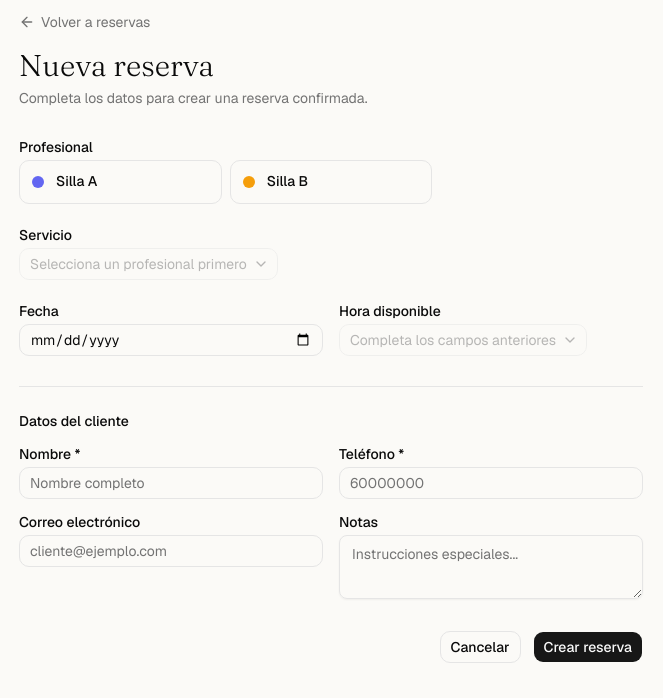
Scenario: NewBookingForm — validación › muestra error cuando el teléfono no inicia con 6
Type "71234567" into the field labelled "Teléfono *".
click(491, 482); type("71234567")  # box [339,466,643,498]
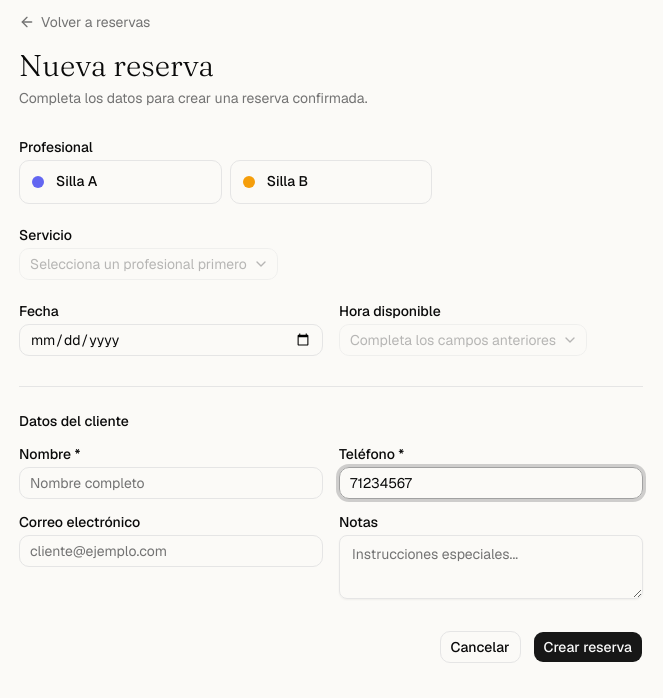
Click the button "Crear reserva".
click(588, 646)  # box [532,630,643,662]
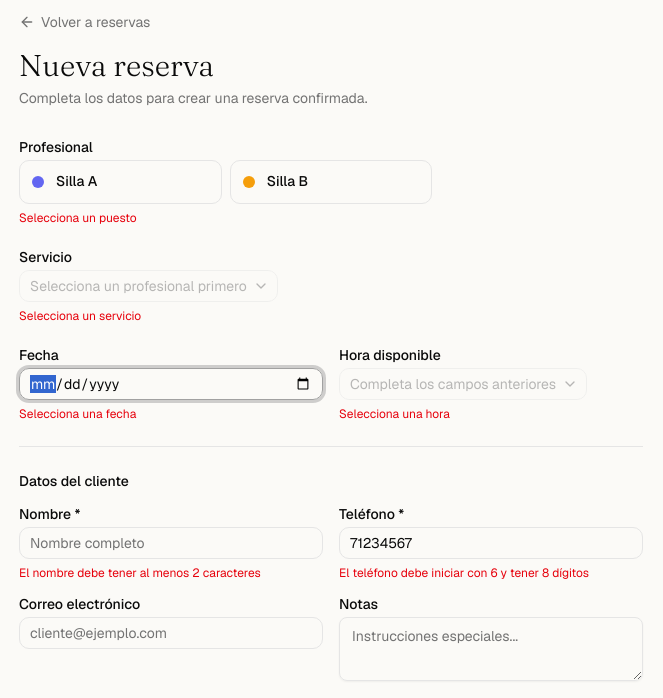
Check: the text "El teléfono debe iniciar con 6 y tener 8 dígitos" is shown, box [339,564,589,580]
